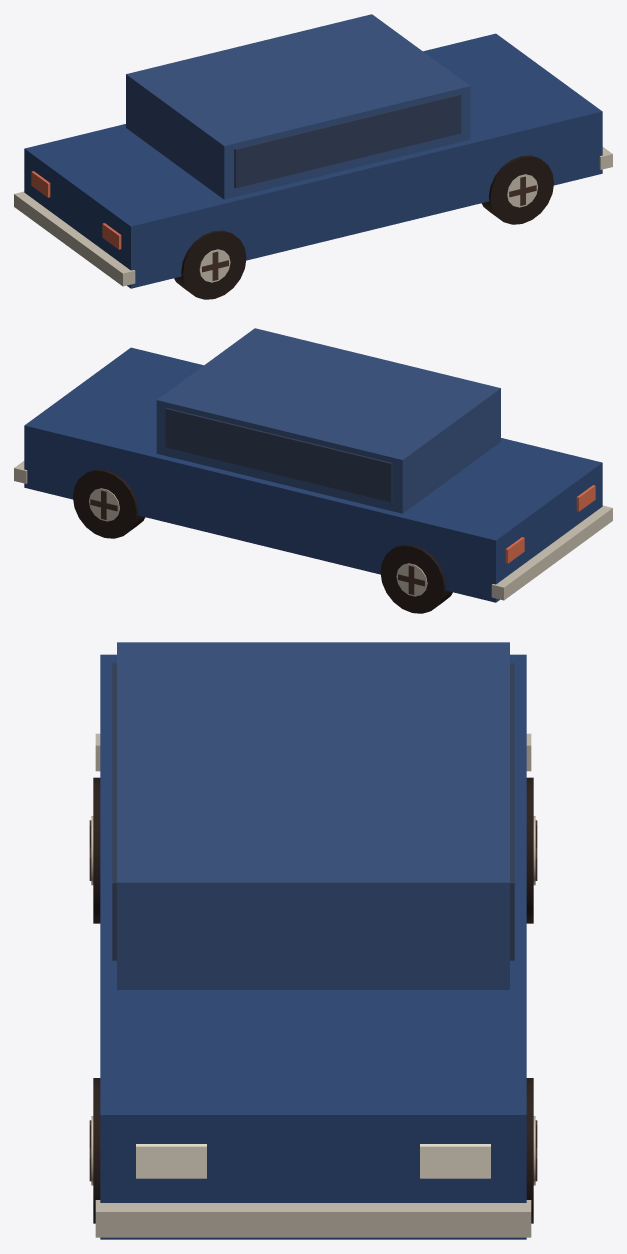
The model's file is sedan.glb.
The picture shows the model from 3 angles, top to bottom: view 1: azimuth 30°, elevation 25°; view 2: azimuth 150°, elevation 25°; view 3: azimuth 270°, elevation 25°; orthographic projection. The views are drawn at different scales.
Parts seen in each view (by area): view 1: Box1, Box2, Box3, Part4, Part2, Box5; view 2: Box1, Box2, Box3, Part8, Part6, Box5; view 3: Box2, Box1, Box4, Box3, Box6, Box8, Part2, Part6, Part4, Part8.
Boxes of the visible parts, x1,y1,x2,y2 form: Box1: (24, 33, 602, 288); Box2: (126, 14, 470, 199); Box3: (234, 94, 461, 188); Part4: (481, 155, 553, 224); Part2: (174, 230, 246, 299); Box5: (14, 191, 135, 286); Box1: (24, 347, 602, 602); Box2: (156, 328, 500, 513); Box3: (165, 408, 392, 502); Part8: (73, 469, 145, 538); Part6: (380, 544, 452, 613); Box5: (491, 505, 612, 600); Box2: (117, 642, 509, 989); Box1: (100, 654, 526, 1239); Box4: (95, 1200, 531, 1237); Box3: (112, 663, 514, 960); Box6: (136, 1144, 206, 1178); Box8: (420, 1144, 490, 1178); Part2: (91, 777, 100, 923); Part6: (526, 777, 535, 923); Part4: (91, 1078, 100, 1223); Part8: (526, 1078, 535, 1223).
Size of the model in its own units: 4.78 by 1.35 by 1.89.
